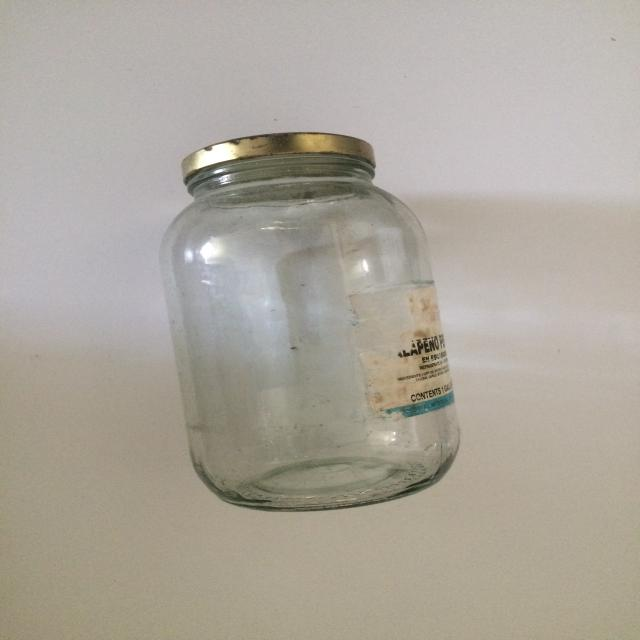glass: (158, 130, 462, 512)
